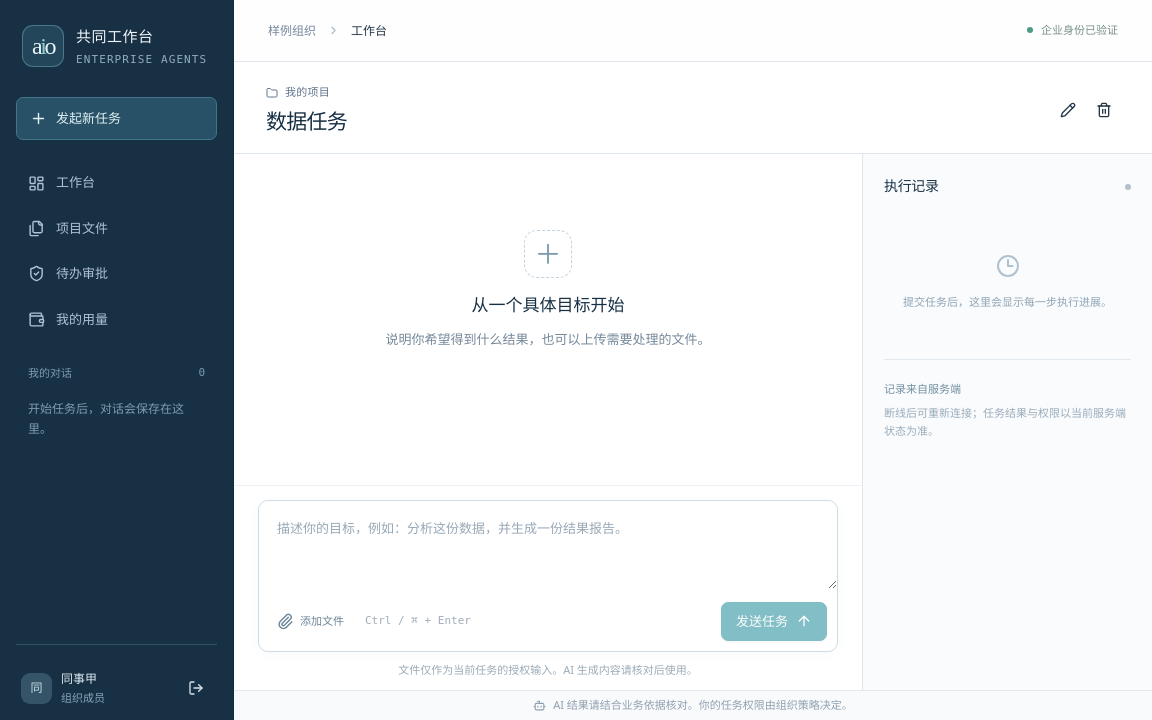
Test: Workbench identity and tasks › submits once with a stable idempotency key and renders the server final result
Type "分析数据" into the text box named "任务内容" at (548, 545), box [259, 501, 837, 589]
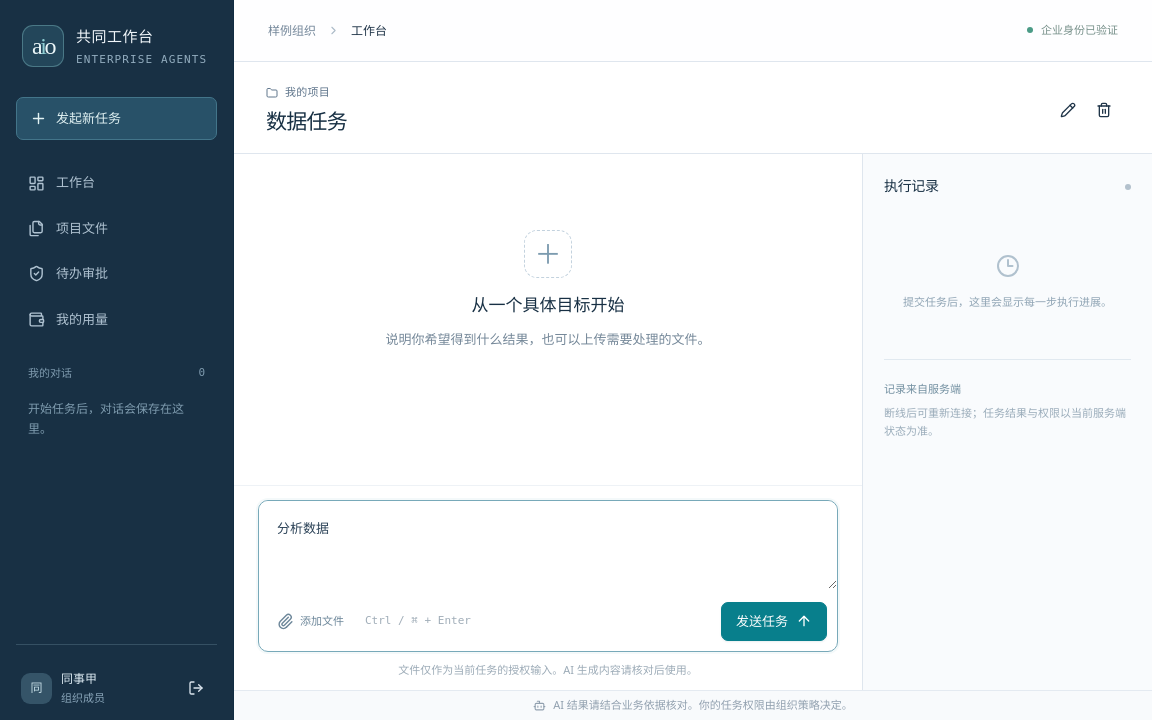
Click the button "发送任务" at (774, 621), box [721, 602, 827, 641]
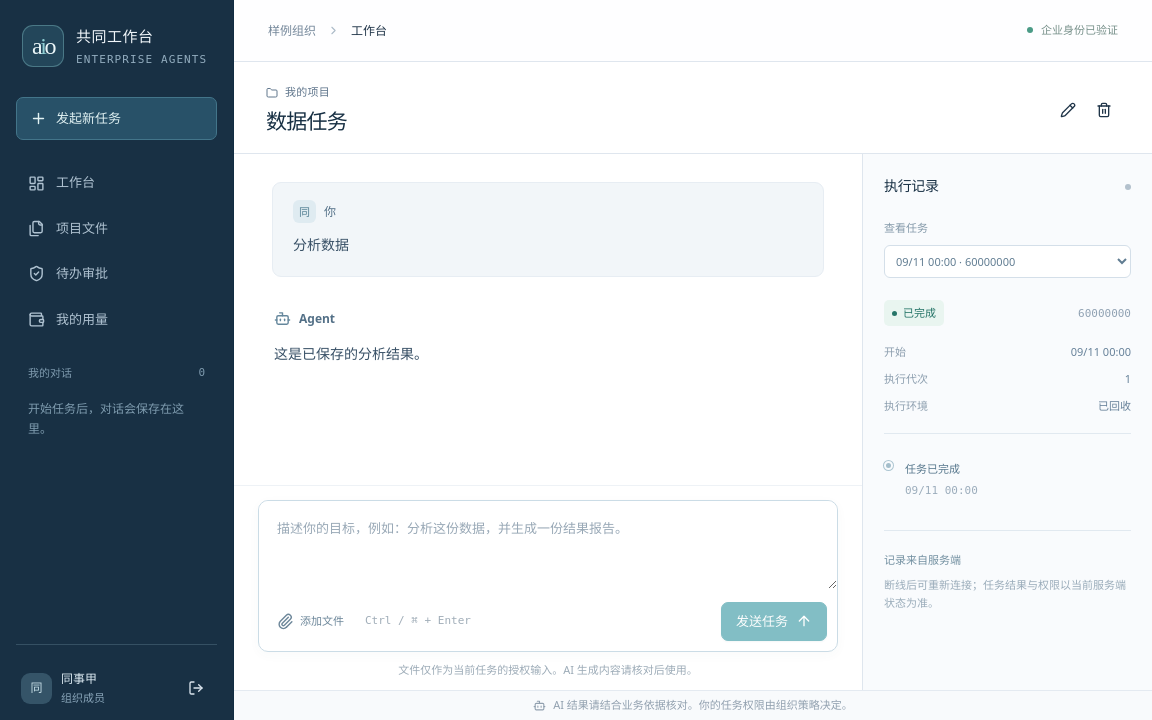
Expected: the text "这是已保存的分析结果。" is shown, [274, 344, 428, 363]
